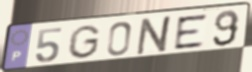0: (106, 20, 134, 58)
5: (34, 26, 63, 64)
9: (211, 9, 240, 49)
E: (173, 12, 209, 51)
G: (65, 24, 102, 60)
N: (134, 14, 176, 57)
